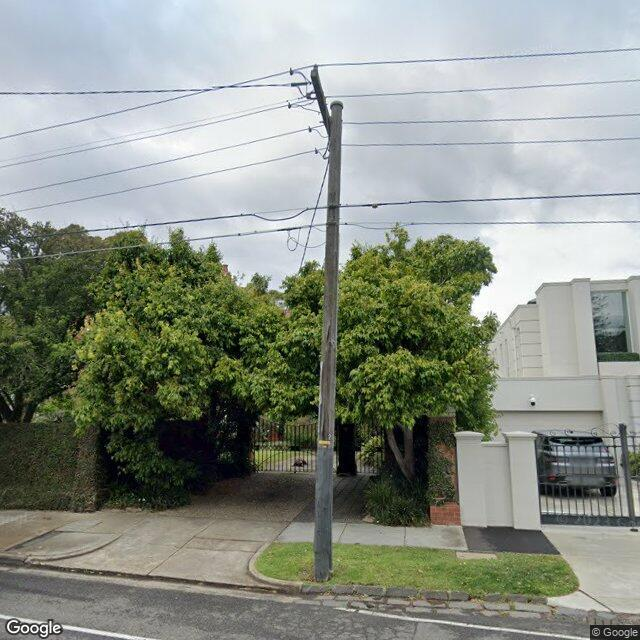crossarm: (311, 70, 330, 136)
timber-pole: (314, 100, 344, 582)
